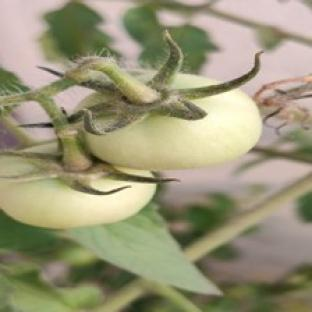Tomato: (85, 90, 261, 169), (0, 177, 155, 228)
